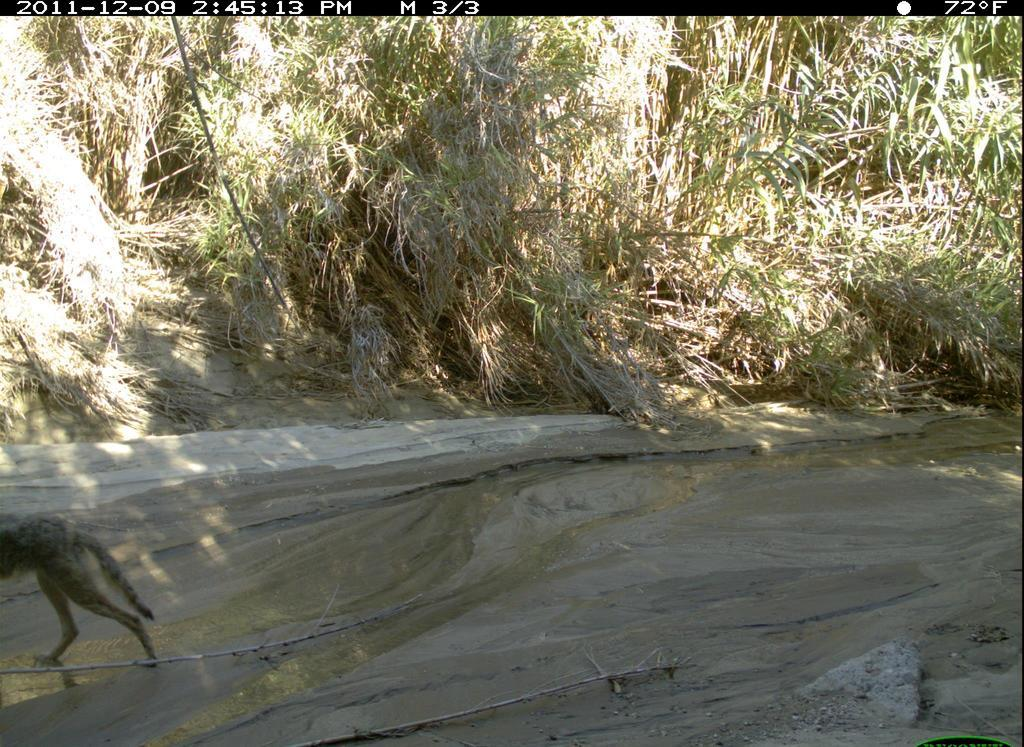coyote: (7, 509, 167, 687)
